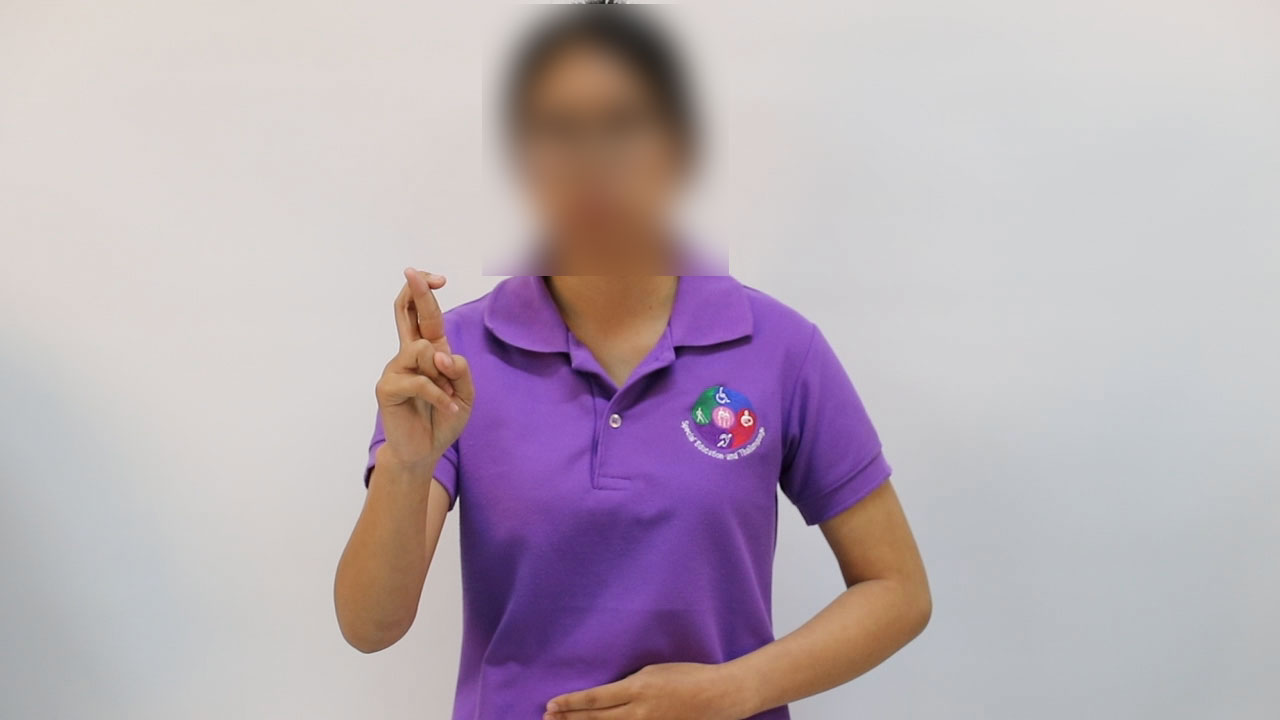rao: (360, 262, 485, 477)
